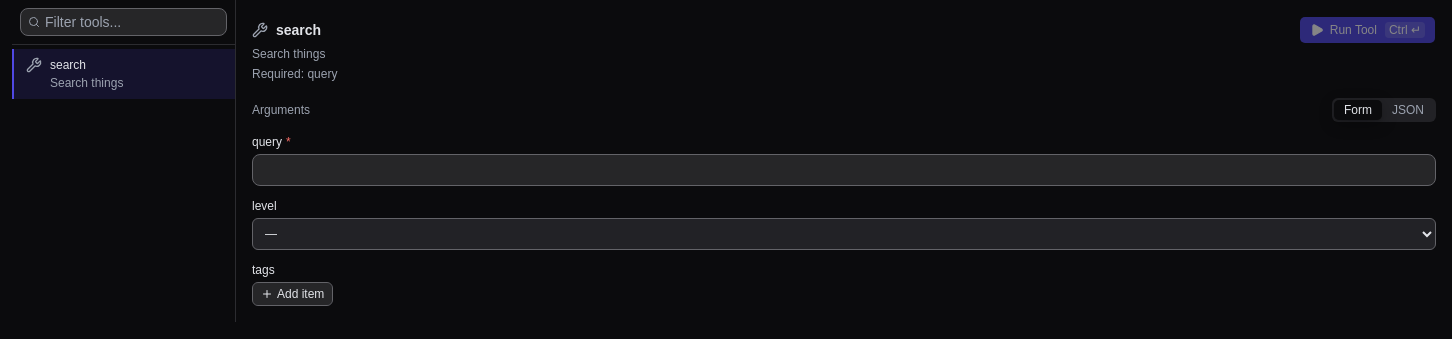
Test: ToolPanel required arguments and run shortcut › blocks Run until required arguments are filled and says which are missing
This screenshot has width=1452, height=339.
Check: the button "Run Tool Ctrl ↵" is disabled, box [1299, 16, 1436, 44]
Step 1. Type "cats" into the field labelled "query" → (844, 170), box [252, 154, 1436, 186]
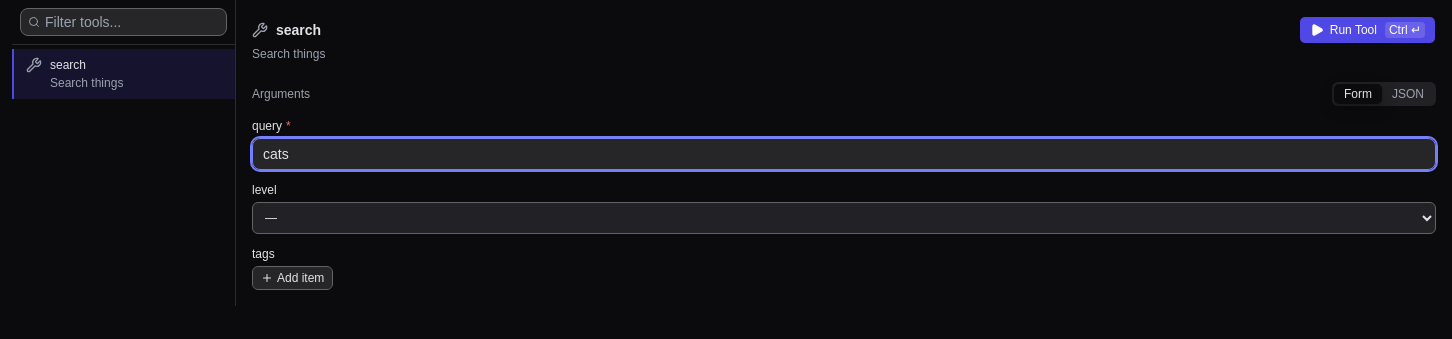
Check: the button "Run Tool Ctrl ↵" is enabled, box [1299, 16, 1436, 44]
